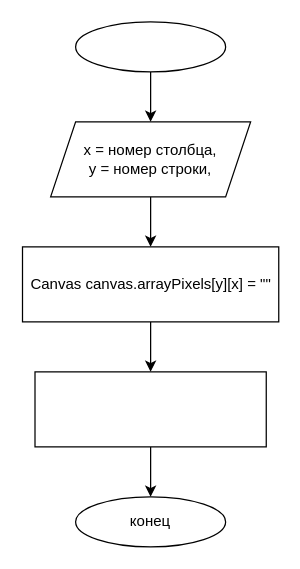
This 300x569 diagram has some shape labels left out. Here are the shapes that lost their labels. From the top down, the centre of each, then its label:
the point at 150,46: начало
the point at 150,409: Canvas canvas. UpdateDisplay()
